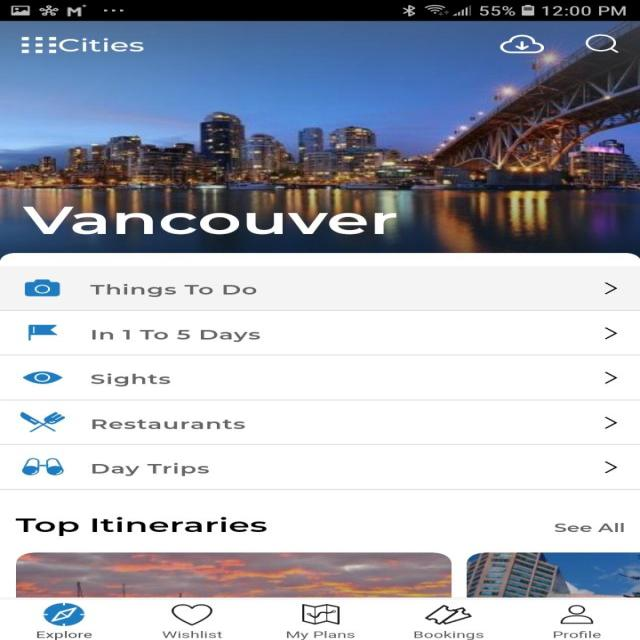Icon: (424, 604, 472, 624), (44, 602, 84, 626), (170, 603, 212, 625), (498, 34, 544, 54), (302, 604, 339, 624), (559, 604, 593, 624), (20, 36, 57, 54), (24, 278, 61, 296), (584, 34, 618, 53), (22, 371, 63, 384), (604, 416, 617, 429), (604, 371, 617, 384), (604, 327, 617, 339), (604, 461, 616, 473), (604, 282, 616, 294)
Image: (0, 21, 639, 252), (16, 552, 451, 597), (466, 552, 640, 598), (20, 412, 66, 432), (22, 457, 65, 475), (27, 324, 57, 341)
Text: (22, 206, 396, 234), (15, 516, 267, 536), (90, 283, 256, 297), (92, 329, 260, 342), (91, 462, 209, 476), (92, 419, 246, 429), (59, 38, 145, 52), (90, 373, 170, 386), (554, 522, 624, 532), (414, 630, 484, 640), (286, 630, 355, 640), (38, 630, 92, 640), (162, 630, 222, 638), (552, 630, 601, 638)
